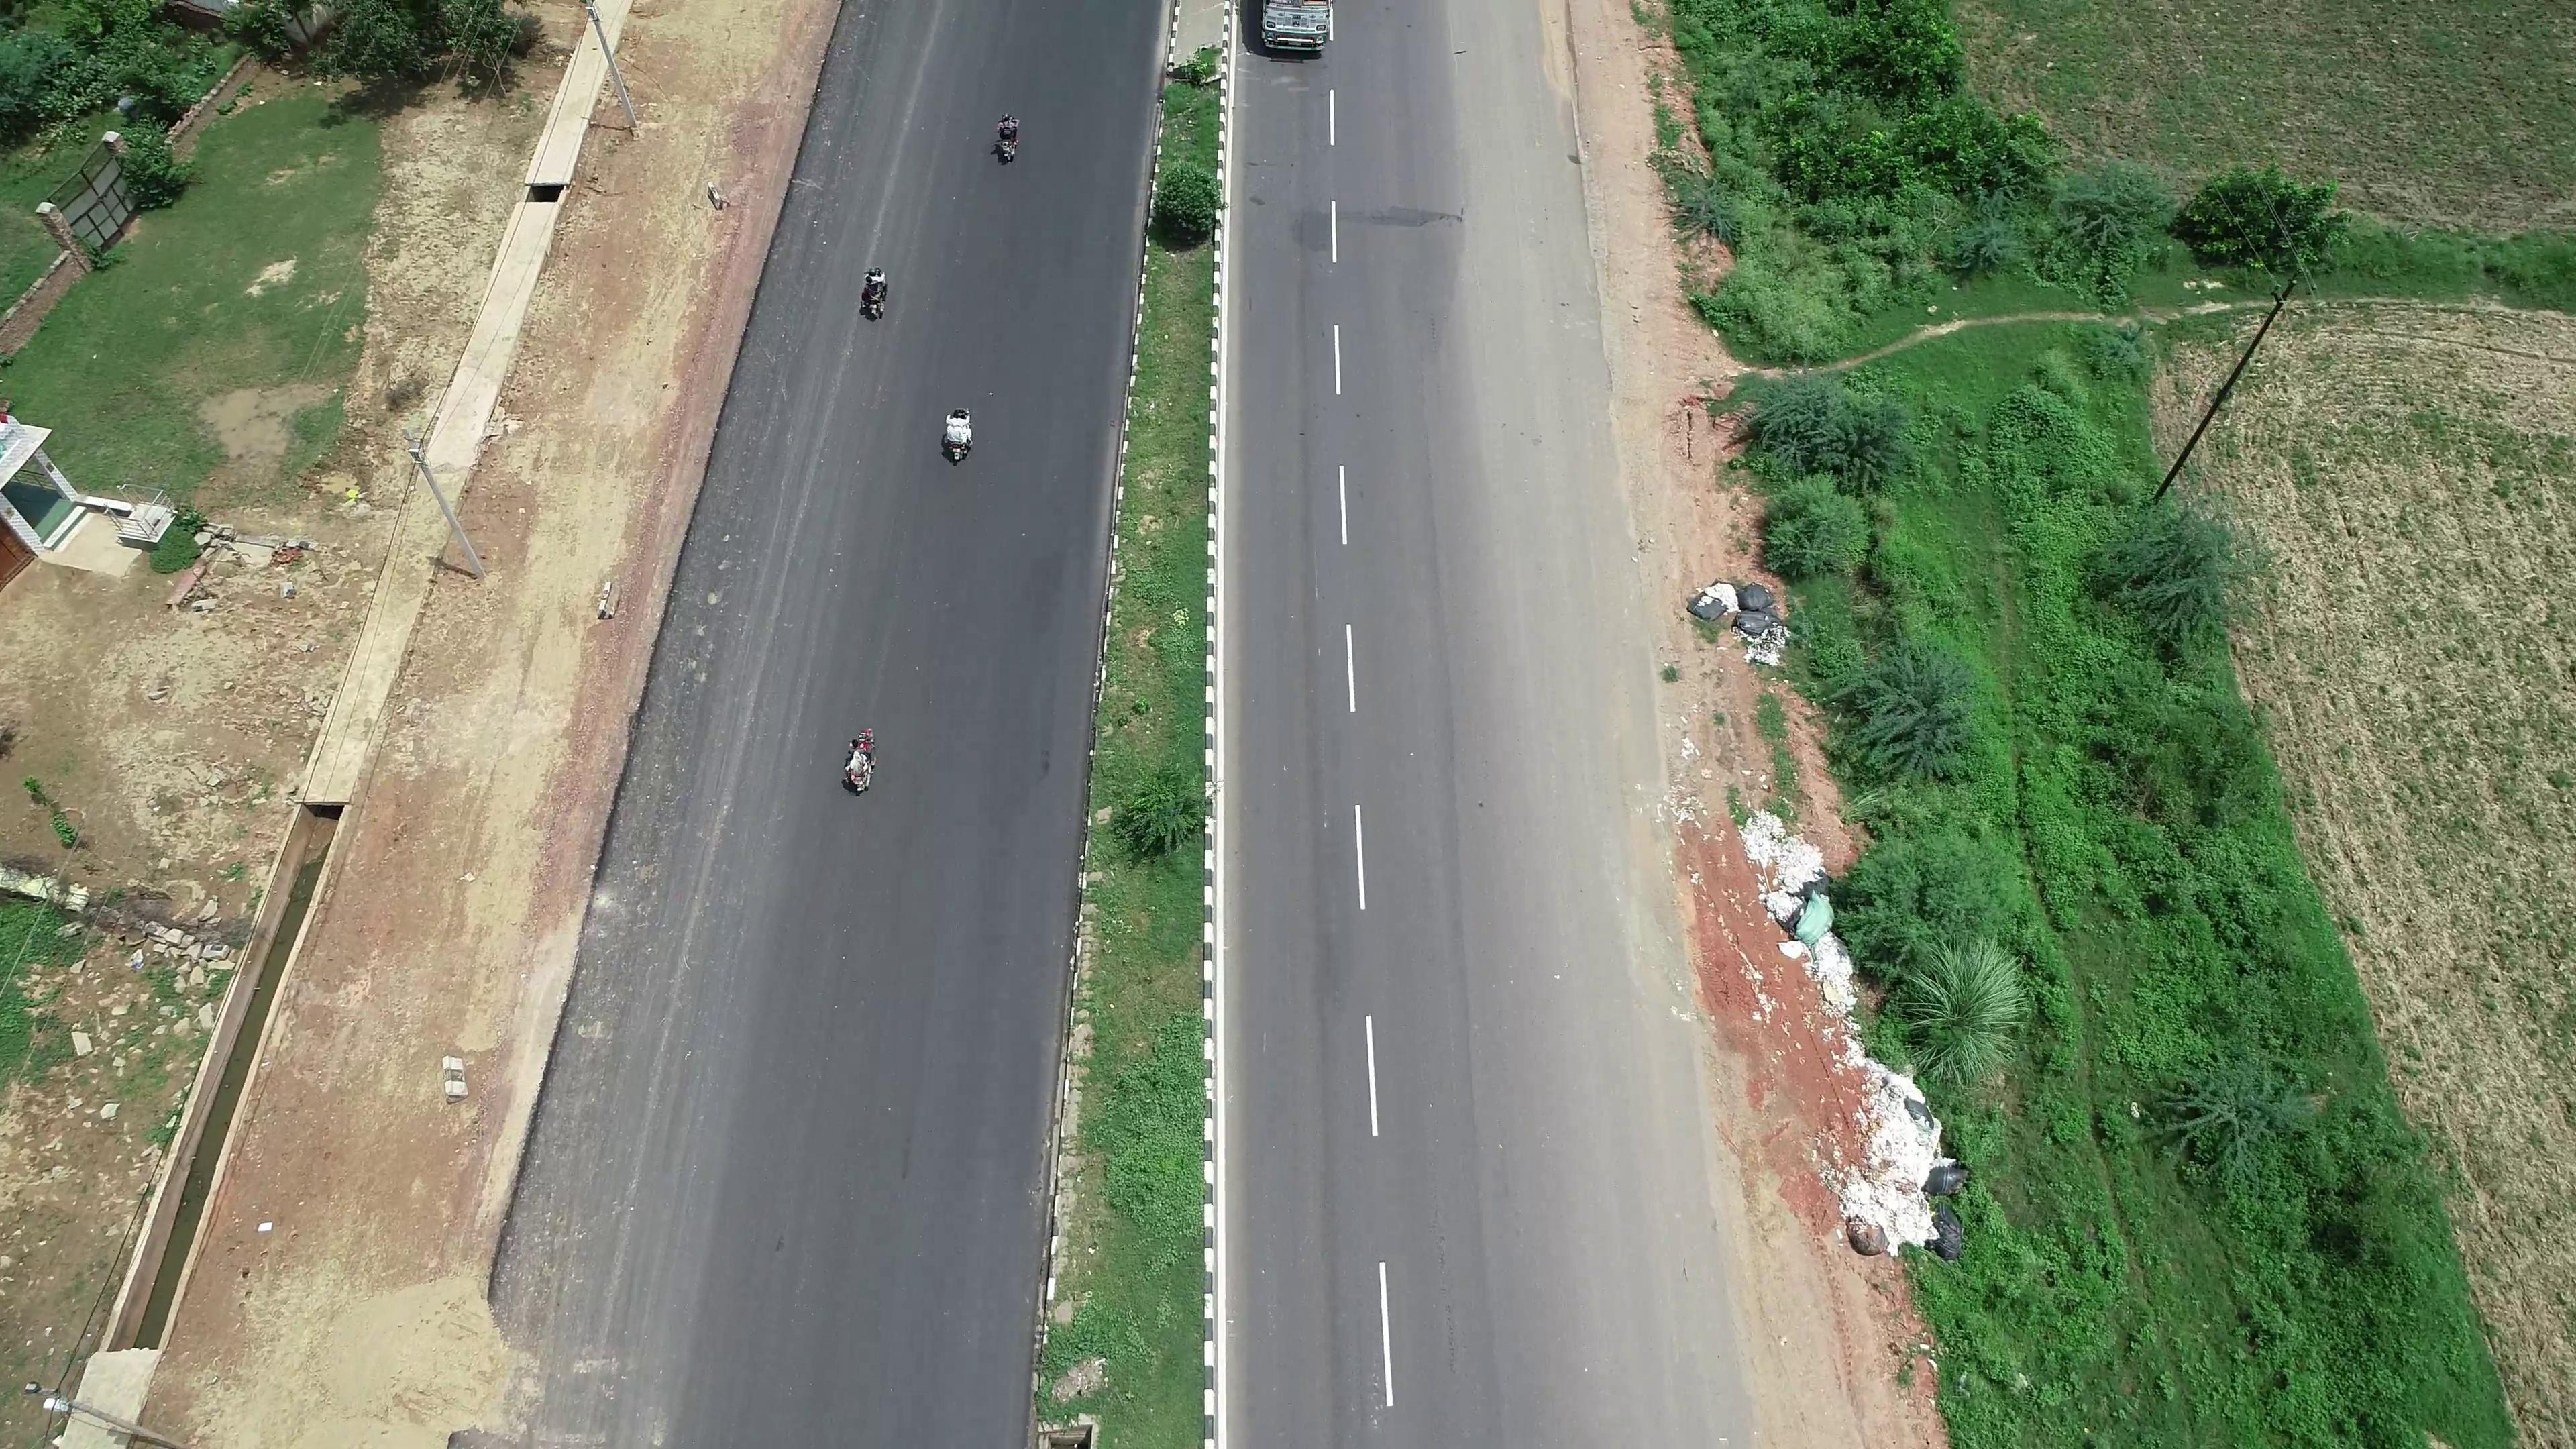Road_side_garbage: (1766, 858, 1925, 1221)
